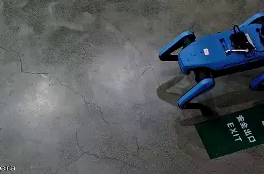robot dog: (154, 11, 264, 119)
